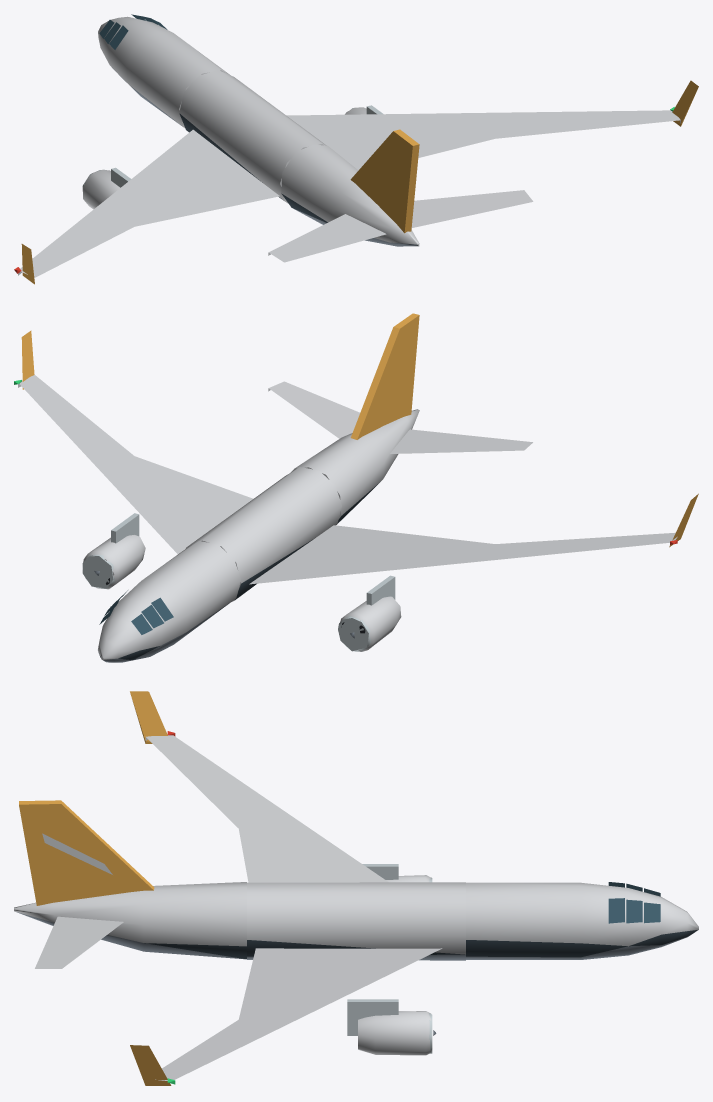
Rendered from kestrel-lod1.glb.
The picture shows the model from 3 angles, top to bottom: view 1: azimuth 30°, elevation 25°; view 2: azimuth 150°, elevation 25°; view 3: azimuth 270°, elevation 25°; orthographic projection. The views are drawn at different scales.
Visible parts, largest first — view 1: distant_airframe; view 2: distant_airframe; view 3: distant_airframe.
Part boxes in pixels (x1,y1,x2,y2): distant_airframe: (14, 14, 698, 284); distant_airframe: (14, 313, 698, 662); distant_airframe: (14, 691, 698, 1085).
Size of the model in its own units: 24.48 by 5.93 by 20.
